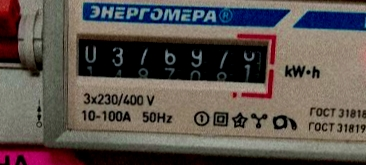0: (81, 39, 95, 61)
1: (239, 60, 251, 80)
3: (108, 43, 123, 65)
6: (160, 40, 175, 63)
7: (133, 40, 148, 64), (214, 44, 228, 68)
9: (186, 43, 201, 66)
screen: (64, 22, 277, 100)
